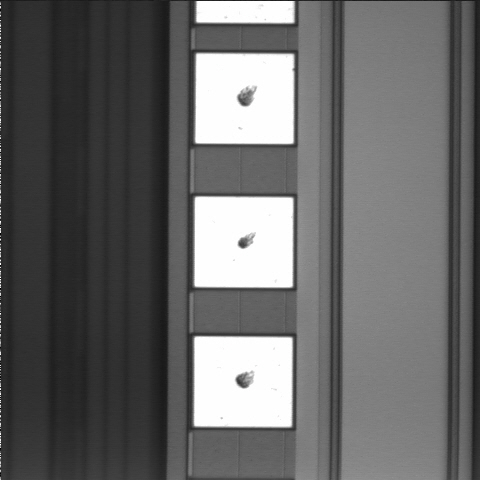pad: (195, 54, 294, 144), (194, 197, 293, 287), (194, 337, 292, 427)
